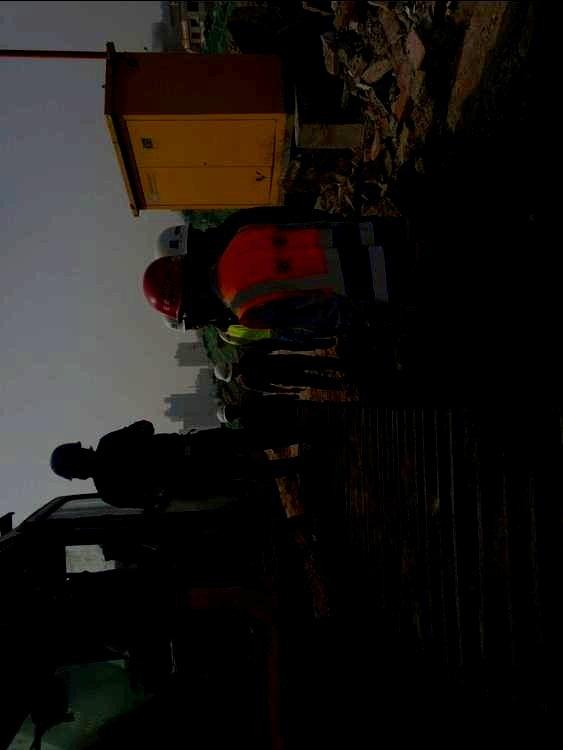helmet: (141, 252, 217, 323), (152, 219, 206, 259), (49, 440, 95, 482), (162, 313, 208, 334), (214, 360, 242, 383), (216, 403, 239, 424)
